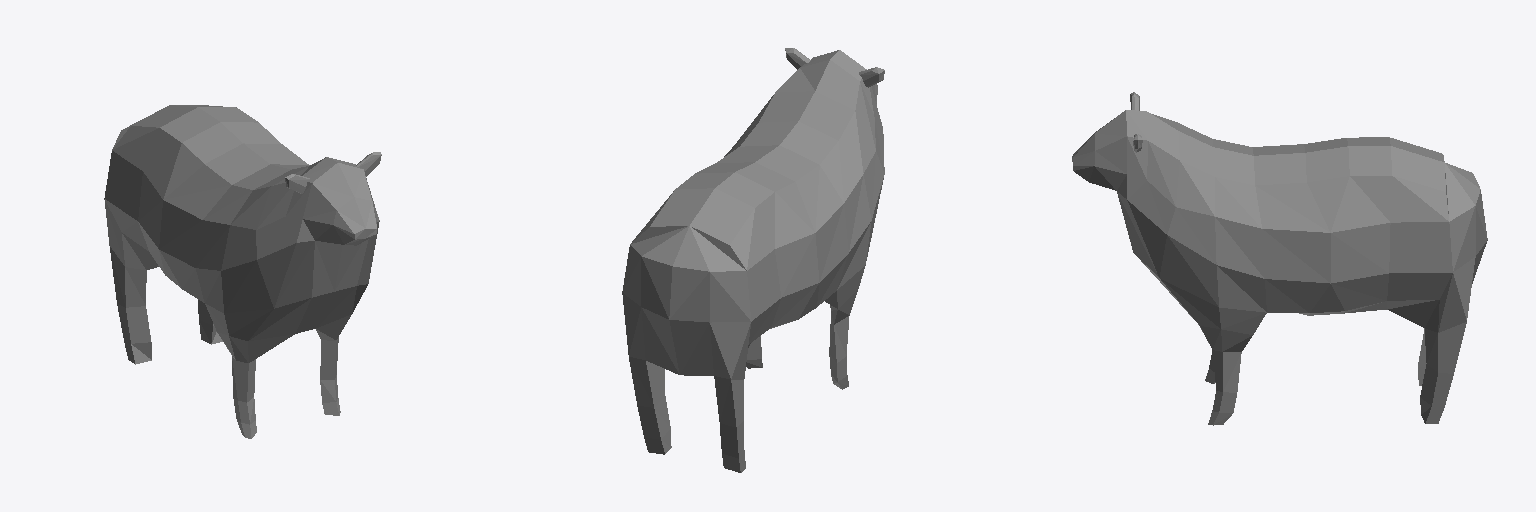
The model's file is SM_EnemySheep.obj.
The picture shows the model from 3 angles: view 1: azimuth 30°, elevation 25°; view 2: azimuth 150°, elevation 25°; view 3: azimuth 270°, elevation 25°; orthographic projection.
Visible parts, largest first — view 1: SM_EnemySheep; view 2: SM_EnemySheep; view 3: SM_EnemySheep.
Part boxes in pixels (bbox=[...]): SM_EnemySheep: bbox=[104, 105, 381, 438]; SM_EnemySheep: bbox=[622, 48, 884, 472]; SM_EnemySheep: bbox=[1072, 92, 1487, 425].
Size of the model in its own units: 18.27 by 34.95 by 44.26.